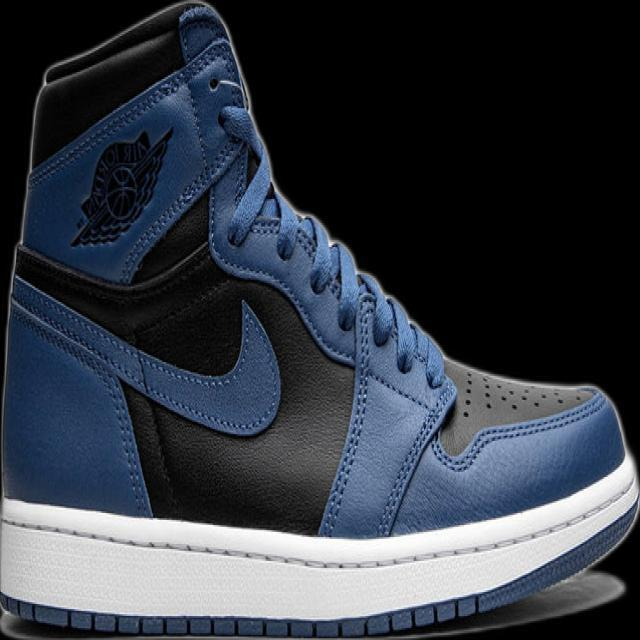J1_InsoleChar: (0, 0, 639, 639)
J1_ShoeLogo: (68, 125, 174, 249)
J1_StitchPattern: (227, 192, 596, 451), (0, 483, 638, 575), (0, 591, 482, 638), (432, 357, 598, 456), (316, 281, 380, 537), (451, 365, 590, 422), (458, 367, 475, 420), (477, 371, 495, 411)
